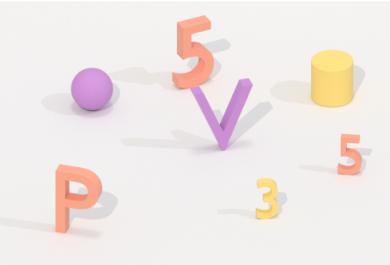0-KhoiTru: (307, 46, 357, 112)
0-Tron: (68, 65, 117, 116)
3: (252, 174, 282, 224)
5: (170, 12, 219, 92), (335, 130, 366, 179)
P: (50, 160, 105, 237)
V: (186, 76, 255, 155)
